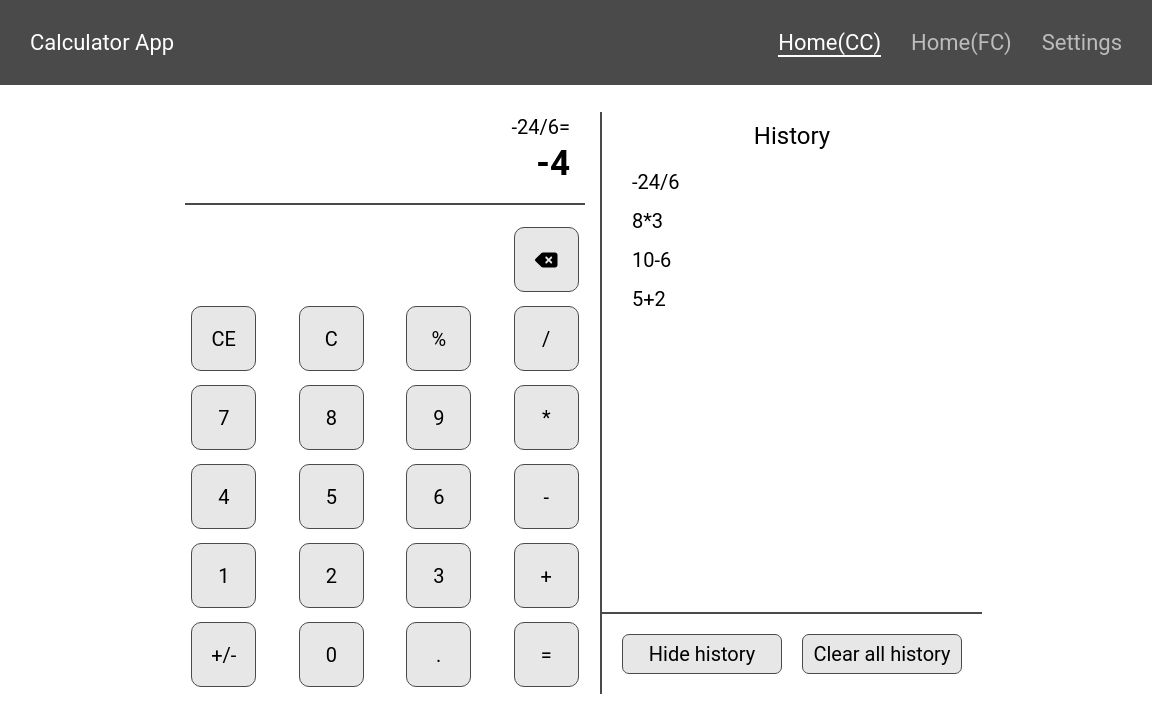
Scenario: Home CC E2E › should calculate remainder of the division
Click the text with test id "btn%": (439, 339) [406,306,471,371]
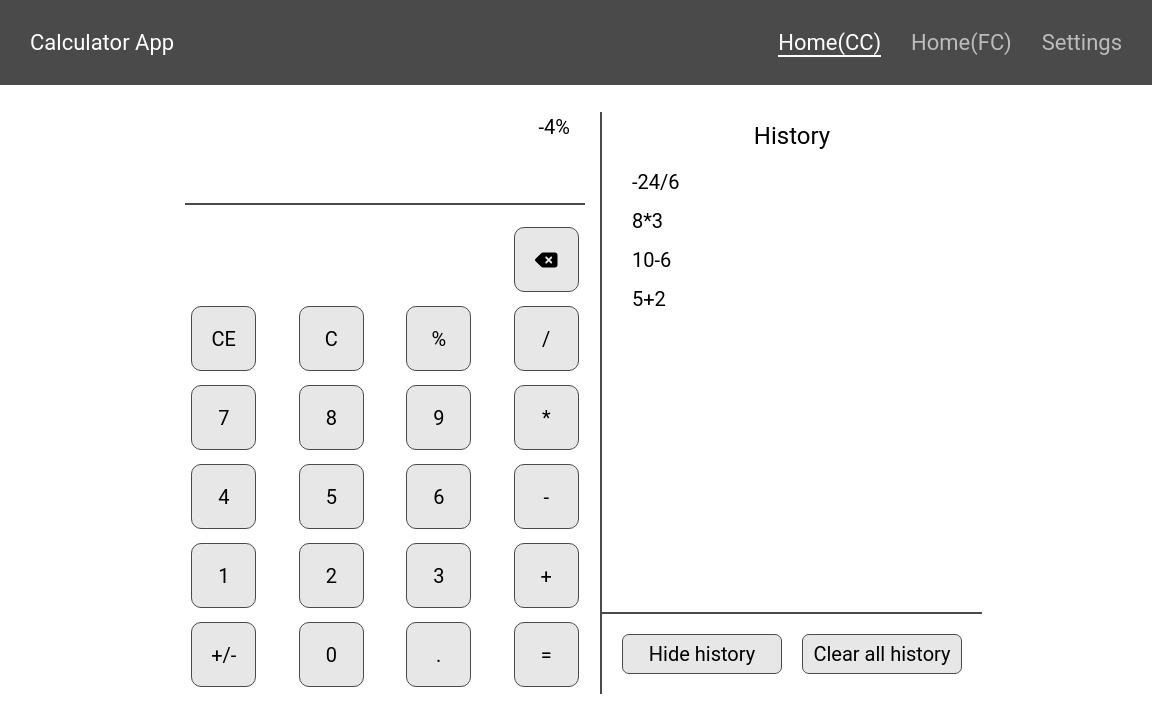
Click the text with test id "btn3": (439, 576) [406,543,471,608]
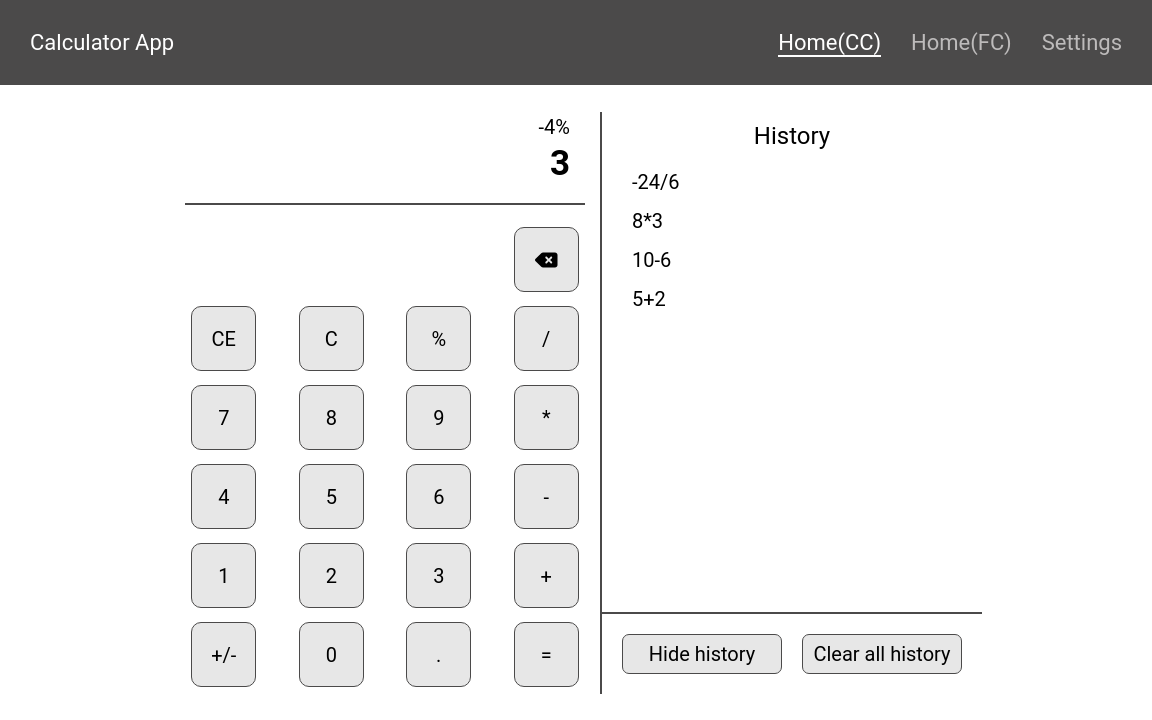
Click the text with test id "btn=": (547, 655) [514,622,579,687]
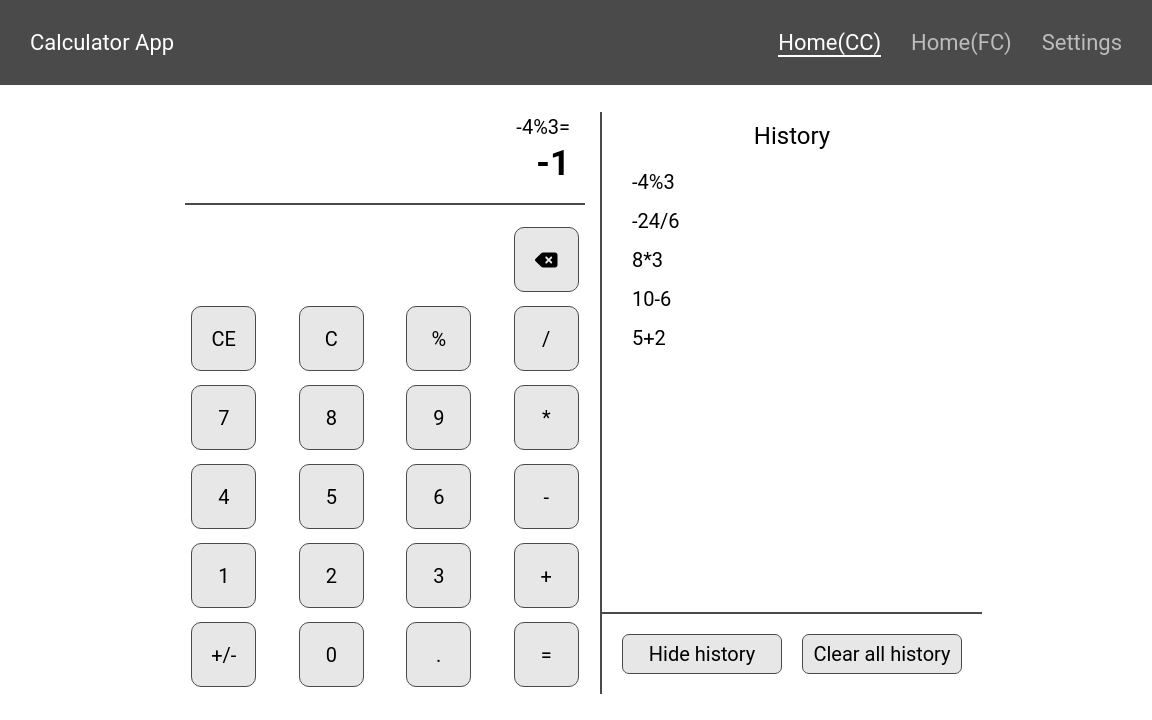
expect the text with test id "displayExpr" reads "-4%3=": met, box [516,115,570,138]
expect the text with test id "displayInput" reads "-1": met, box [536,143,570,184]
